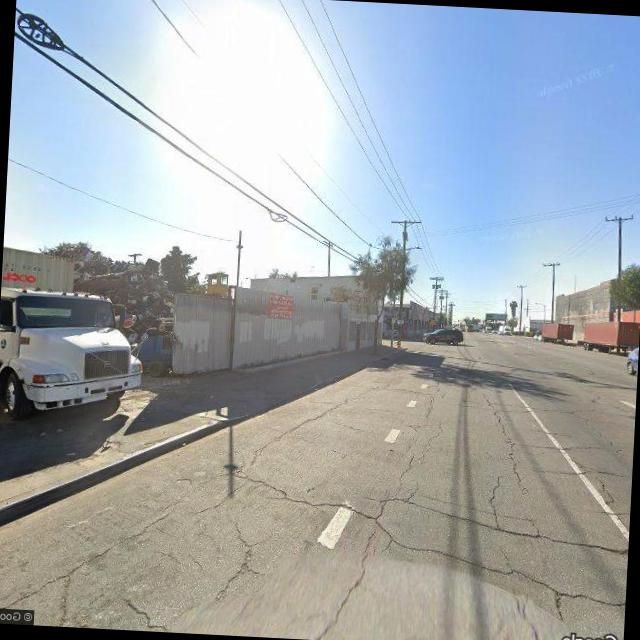crack: (138, 366, 637, 640)
